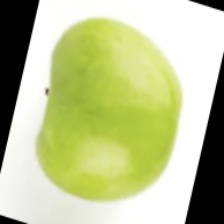apple: (30, 44, 211, 188)
